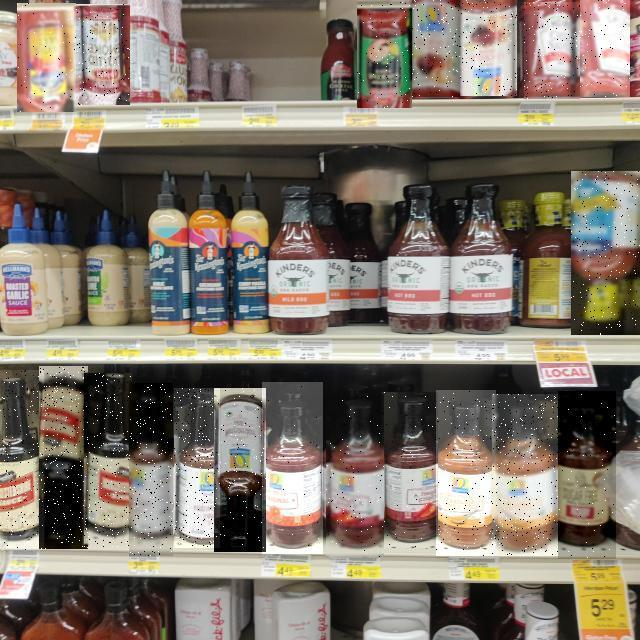Sauce: (571, 171, 640, 335), (492, 394, 558, 556), (262, 382, 323, 554), (436, 391, 496, 557), (559, 391, 617, 559), (327, 394, 385, 558), (39, 366, 88, 549), (382, 392, 438, 548), (214, 388, 266, 552), (84, 374, 132, 548), (0, 371, 44, 551), (129, 383, 173, 556), (174, 388, 220, 548), (18, 3, 78, 112), (357, 0, 412, 108), (458, 0, 517, 96), (77, 4, 131, 105), (524, 2, 580, 99), (411, 0, 461, 97), (580, 0, 630, 97)
